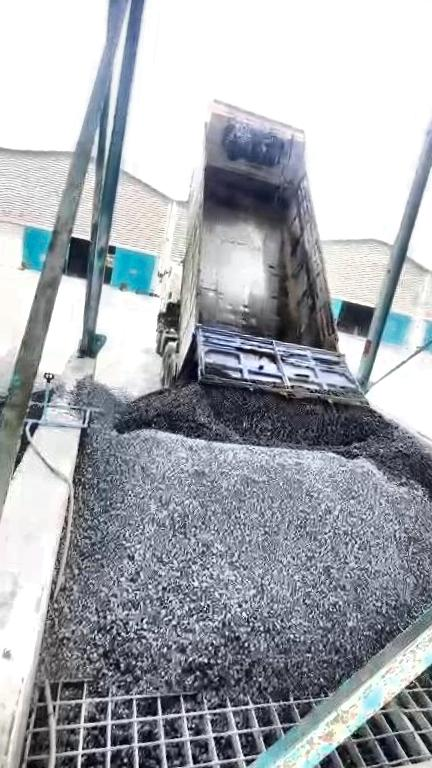gravel: (44, 410, 432, 697), (117, 386, 432, 539), (56, 375, 135, 421), (26, 389, 44, 433), (0, 395, 4, 505)
